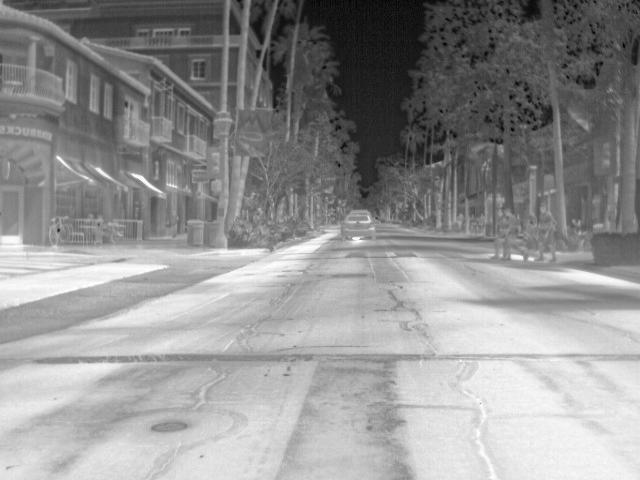car: (341, 207, 378, 240)
person: (501, 207, 531, 262), (536, 204, 560, 264), (491, 206, 507, 260), (167, 210, 180, 238)
